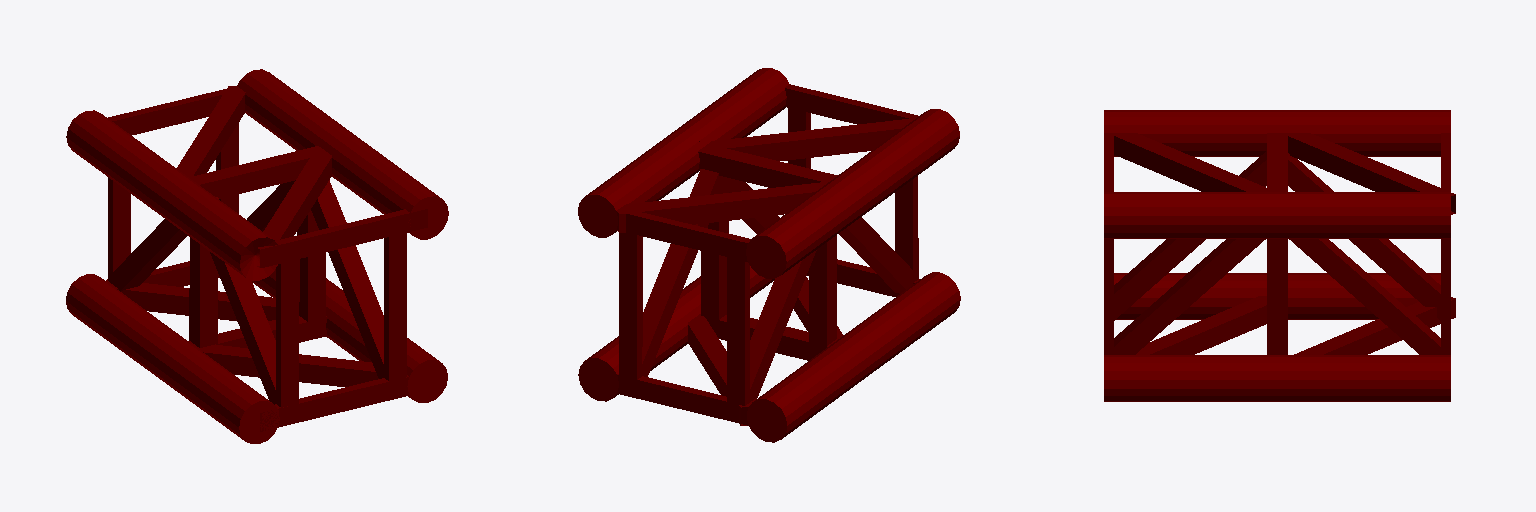
Rendered from intaminquad.obj.
The picture shows the model from 3 angles: view 1: azimuth 30°, elevation 25°; view 2: azimuth 150°, elevation 25°; view 3: azimuth 270°, elevation 25°; orthographic projection.
Bounding box in the file's own units: 1.15 × 1.08 × 1.67.